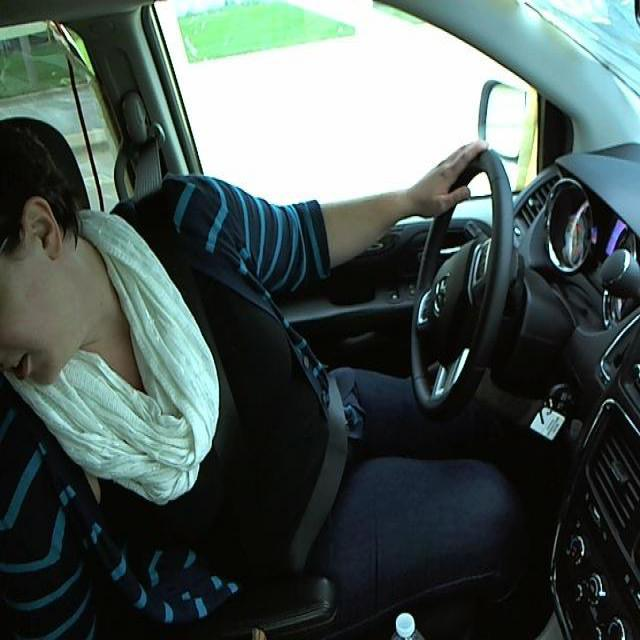seatbelt: (140, 230, 349, 566)
